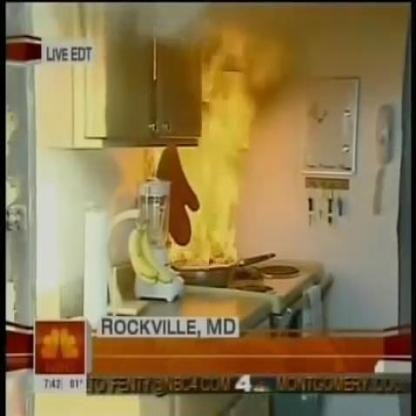fire: (154, 28, 283, 271)
